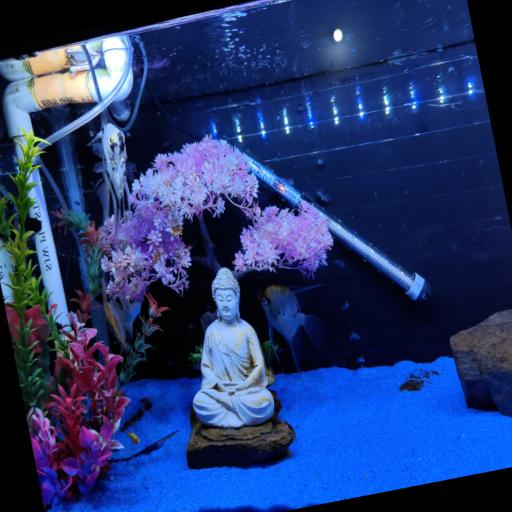Fish: (258, 285, 325, 372), (88, 123, 134, 245), (101, 280, 140, 351), (127, 432, 139, 445)
